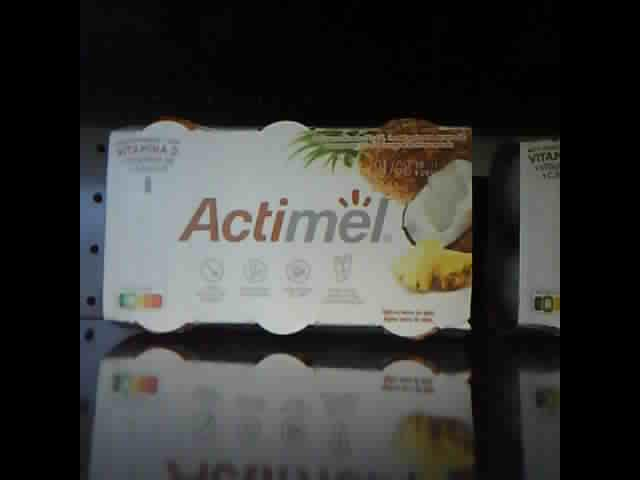actimel: (102, 114, 473, 341), (505, 136, 560, 337)
